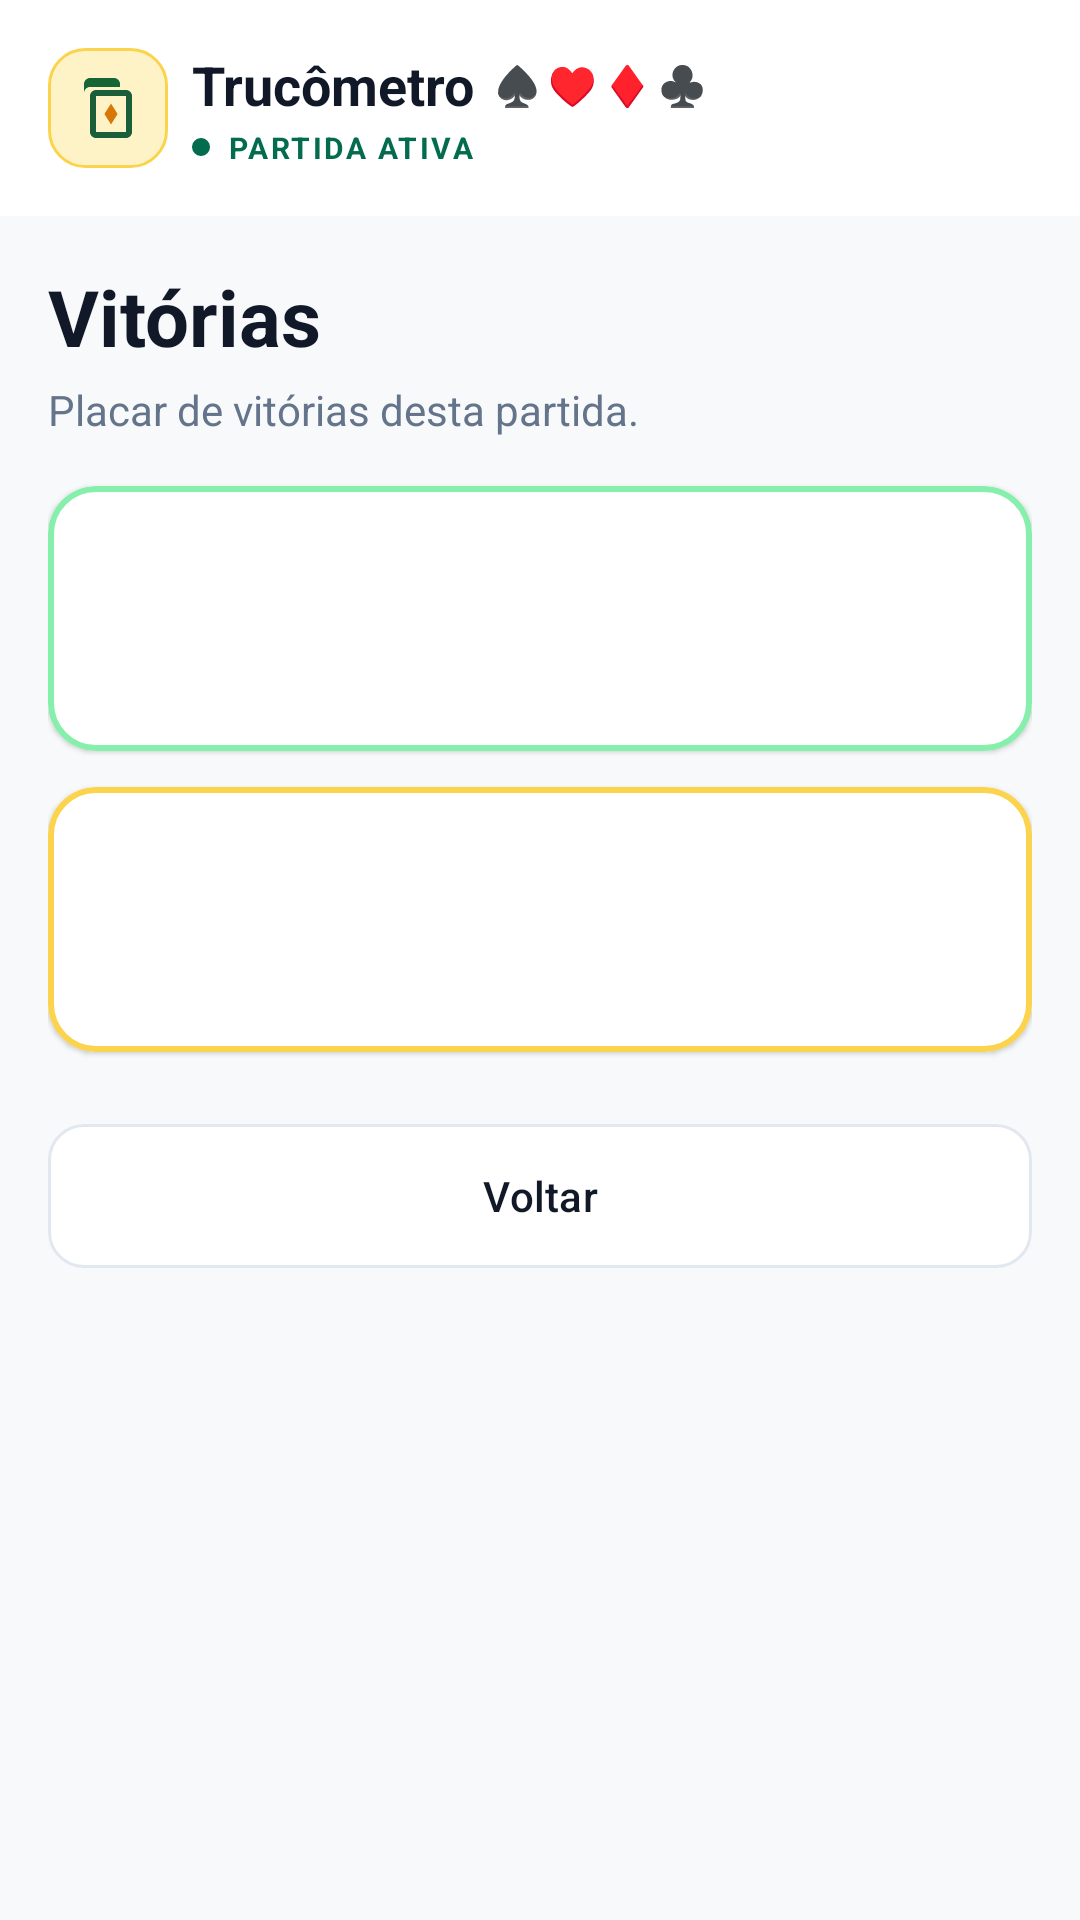

Screen size 1080*1920. Icon name, then its center in pixels as point (x, y):
cards: point (108, 108)
